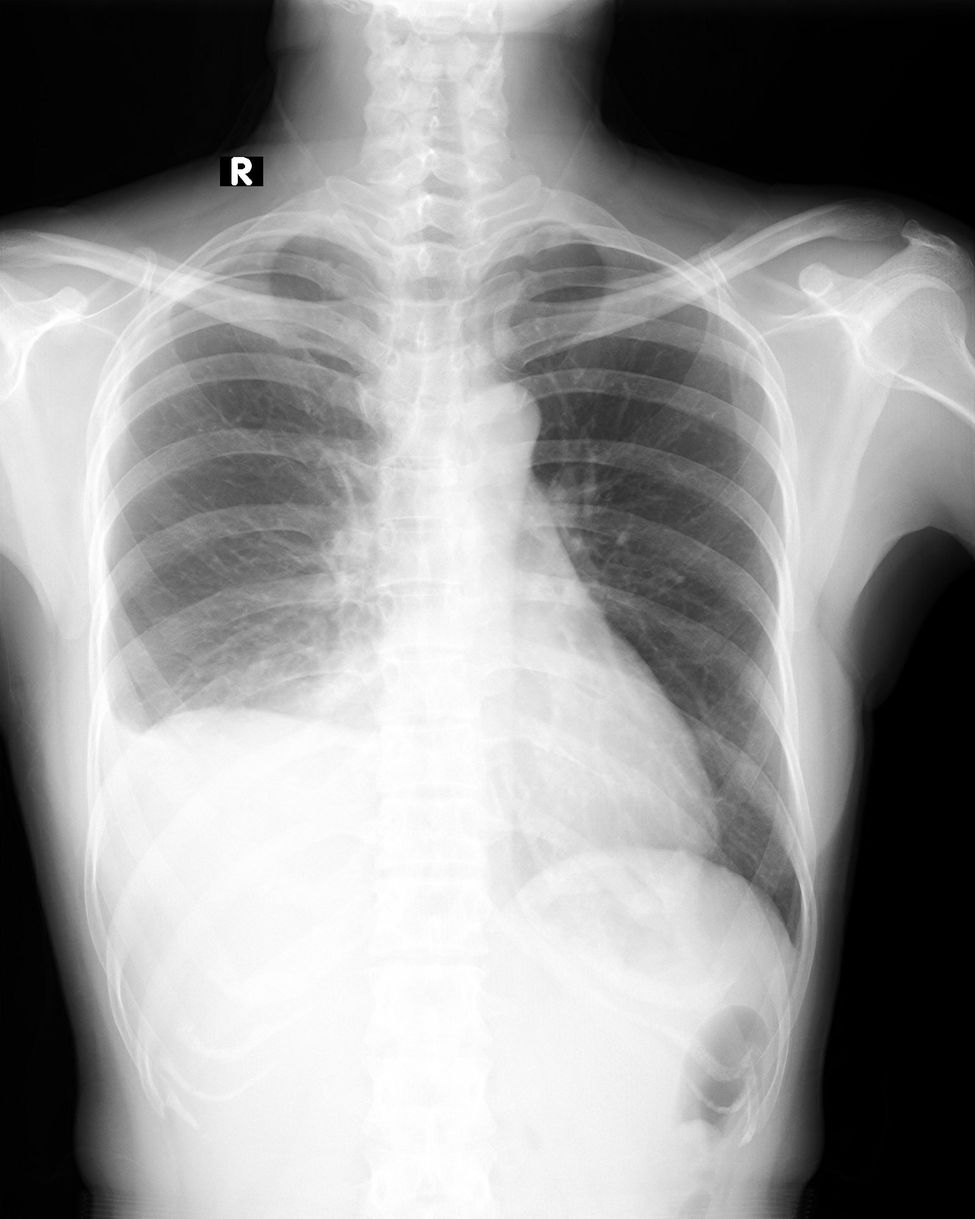Pleural thickening: (193, 233, 375, 276), (97, 687, 149, 789)
